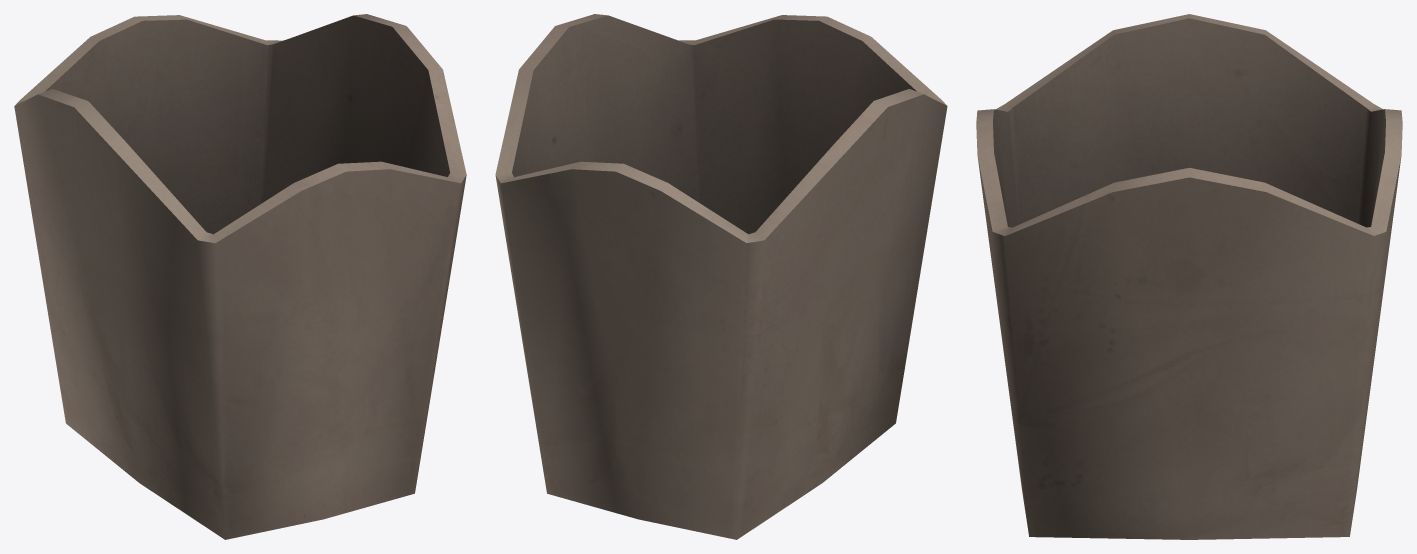
The model's file is frl_apartment_basket.glb.
The picture shows the model from 3 angles, left to right: view 1: azimuth 30°, elevation 25°; view 2: azimuth 150°, elevation 25°; view 3: azimuth 270°, elevation 25°; orthographic projection.
Visible parts, largest first — view 1: frl_apartment_basket; view 2: frl_apartment_basket; view 3: frl_apartment_basket.
Boxes of the visible parts, x1,y1,x2,y2 form: frl_apartment_basket: (14, 14, 466, 539); frl_apartment_basket: (495, 14, 947, 539); frl_apartment_basket: (976, 14, 1402, 539).
Bounding box in the file's own units: 0.2725 × 0.3089 × 0.3004.
Materials: 1 (1 with a texture image).
